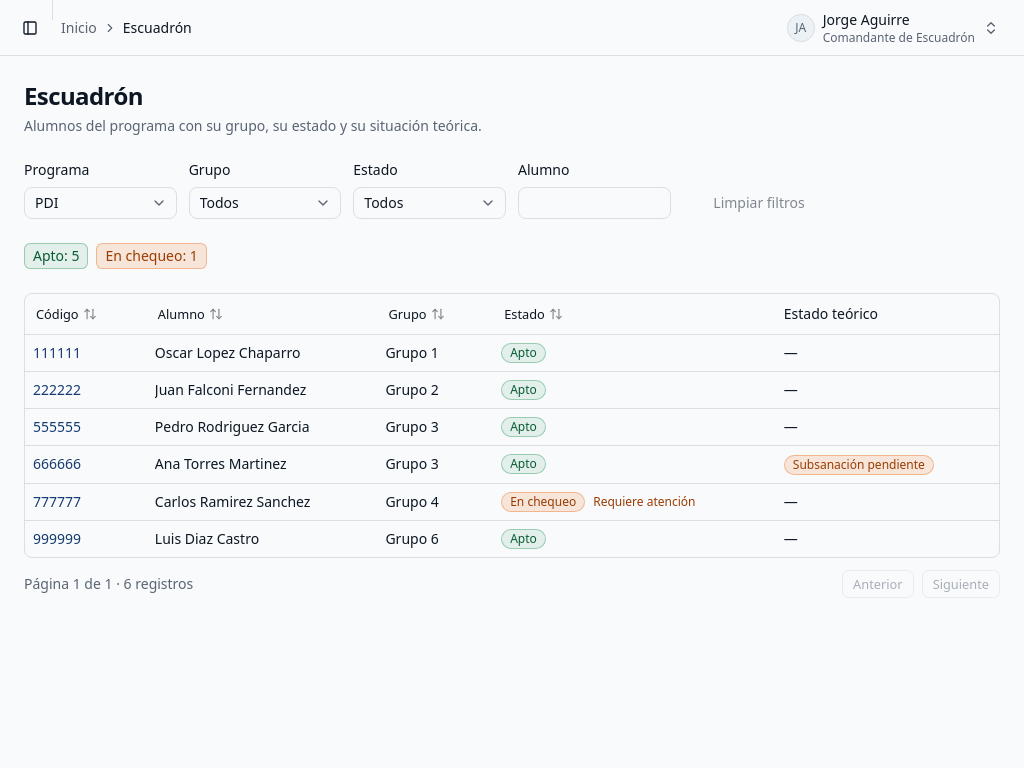
Test: Escuadrón: filtros › CA-SEG-02 grupo, estado y texto se aplican en el navegador y quedan en la URL
This screenshot has width=1024, height=768.
Expected: the heading "Escuadrón" is shown, [24, 79, 143, 112]
Expected: the table named "Alumnos del escuadrón" is shown, [25, 294, 999, 557]
Select "Grupo 3" in the dropdown labelled "Grupo" at (265, 203), box [189, 187, 341, 219]
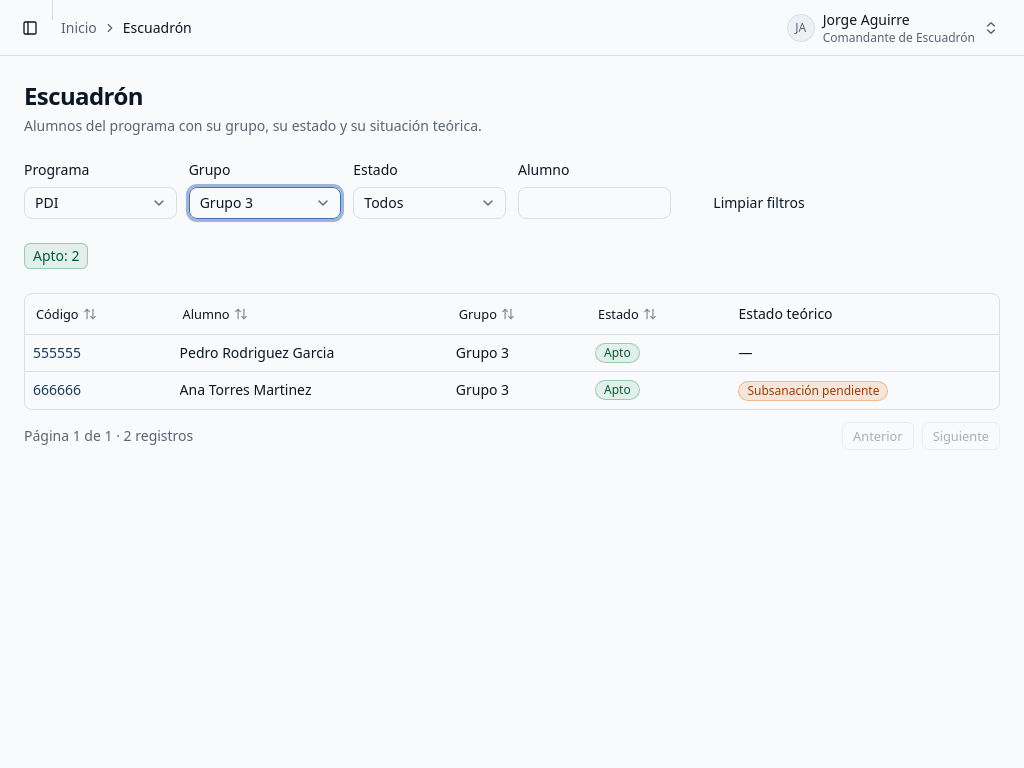
Now the text "Página 1 de 1 · 2 registros" is shown, box [24, 426, 193, 446]
Select "Apto" in the dropdown labelled "Estado" at (430, 203), box [353, 187, 506, 219]
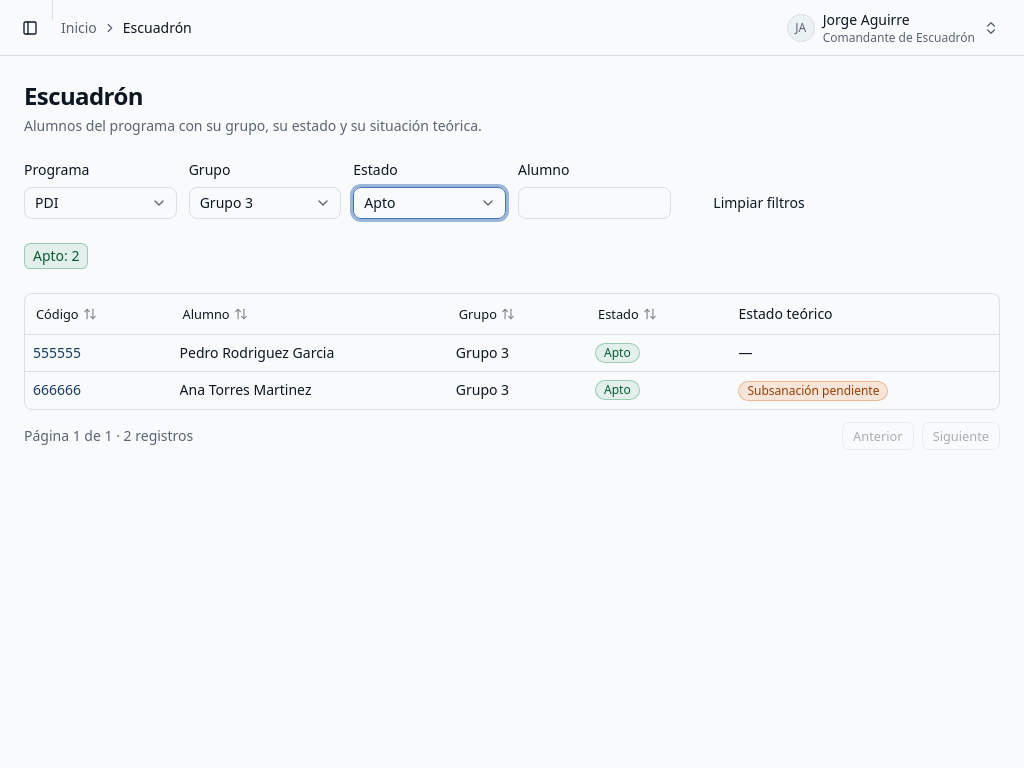
Click the button "Limpiar filtros" at (759, 203), box [683, 187, 835, 219]
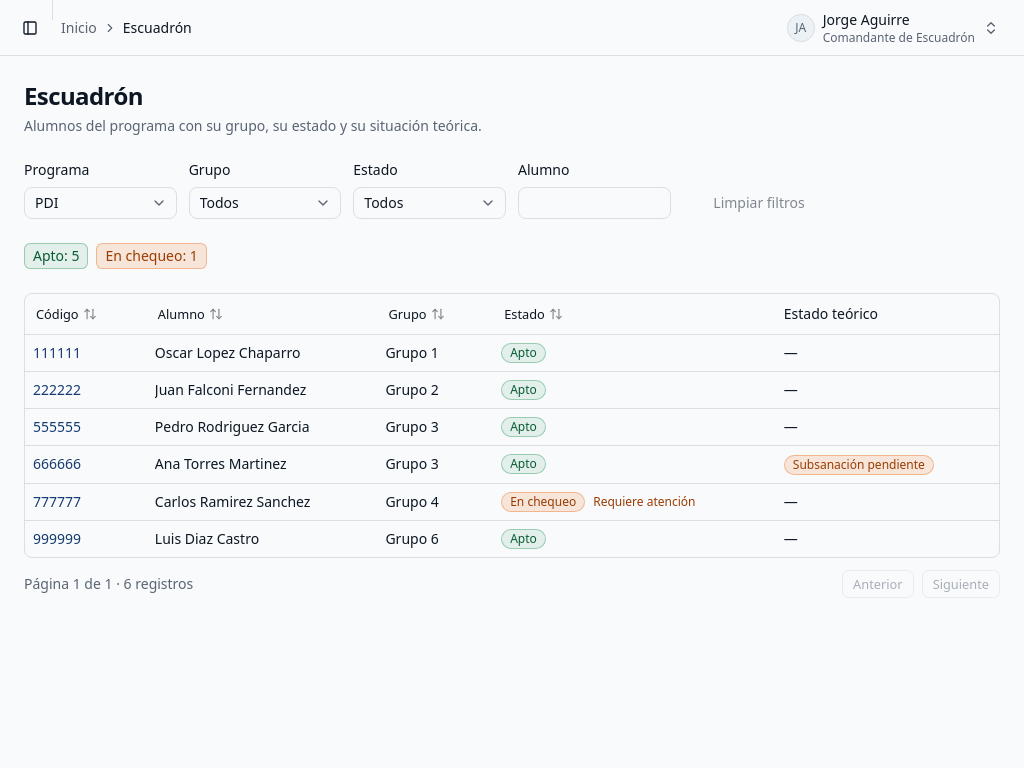
Now the text "Página 1 de 1 · 6 registros" is shown, box [24, 574, 193, 594]
